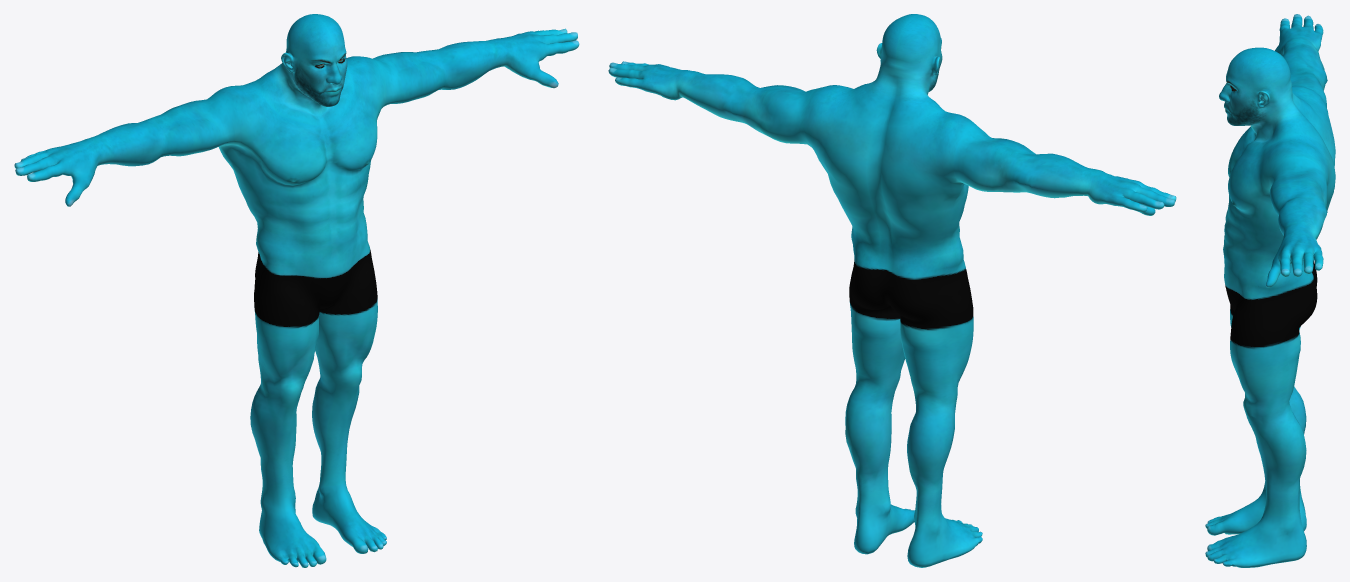
File: Galactic Guardian Character.obj
3 views of the same model, side by side, from view 1: azimuth 30°, elevation 25°; view 2: azimuth 150°, elevation 25°; view 3: azimuth 270°, elevation 25° (orthographic). The views are drawn at different scales.
Visible parts, largest first — view 1: Body; view 2: Body; view 3: Body.
Boxes of the visible parts, x1,y1,x2,y2 form: Body: [14, 14, 579, 567]; Body: [608, 14, 1176, 567]; Body: [1205, 14, 1335, 567].
Bounding box in the file's own units: 239 × 214 × 50.83.
1 material, 1 textured.
